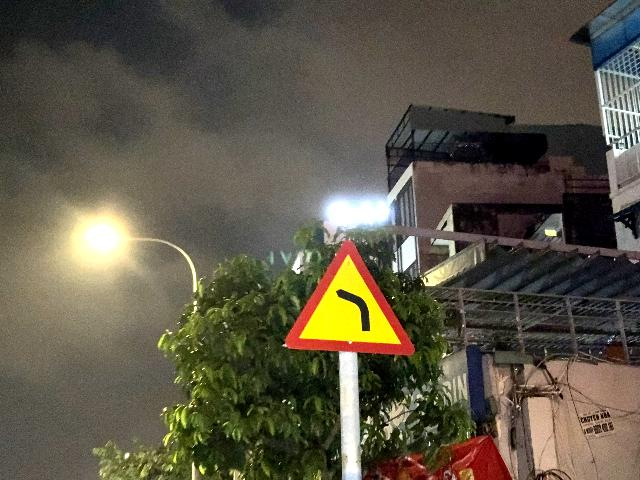cho-ngoat-nguy-hiem-ben-trai: (284, 237, 415, 357)
